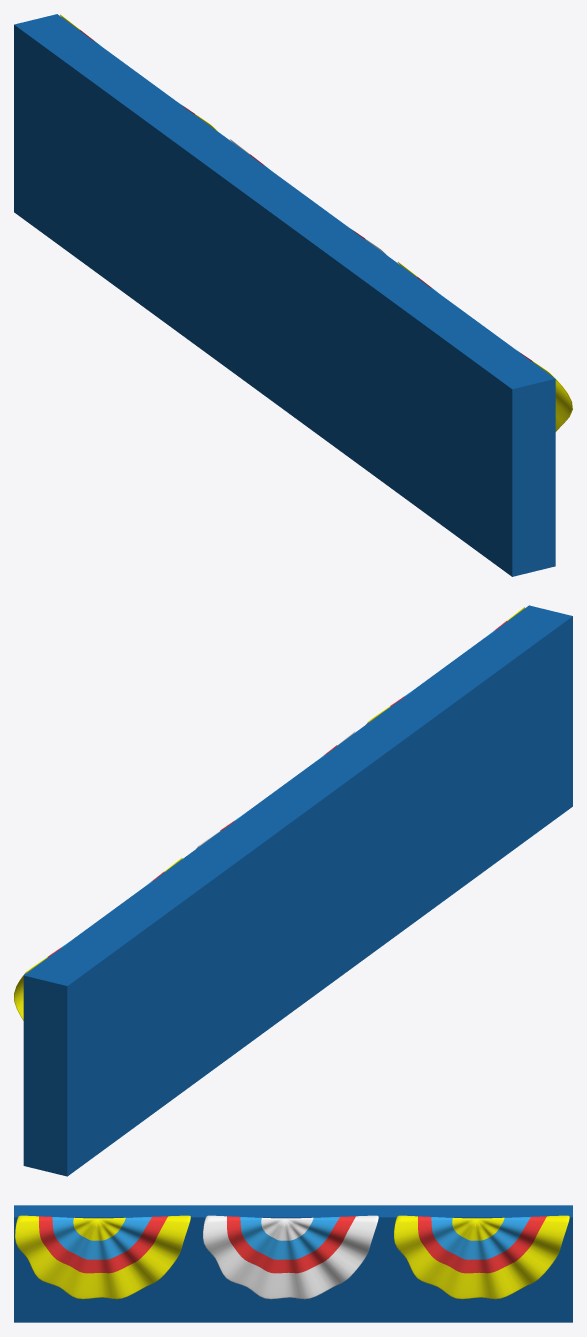
File: BGEnviromentMureta.fbx
3 renders of one model, top to bottom at view 1: azimuth 30°, elevation 25°; view 2: azimuth 150°, elevation 25°; view 3: azimuth 270°, elevation 25°, orthographic. The views are drawn at different scales.
Parts seen in each view (by area): view 1: Cube.006, Cylinder; view 2: Cube.006; view 3: Cube.006, Cylinder.001, Cylinder, Cylinder.003.
Boxes of the visible parts, <box> form: Cube.006: <box>14,14,555,576</box>; Cylinder: <box>397,262,572,431</box>; Cube.006: <box>23,605,572,1176</box>; Cube.006: <box>14,1205,572,1322</box>; Cylinder.001: <box>203,1215,378,1299</box>; Cylinder: <box>15,1215,190,1299</box>; Cylinder.003: <box>394,1215,569,1299</box>.
Bounding box in the file's own units: 121 × 351 × 1665.
1 material, 1 textured.
